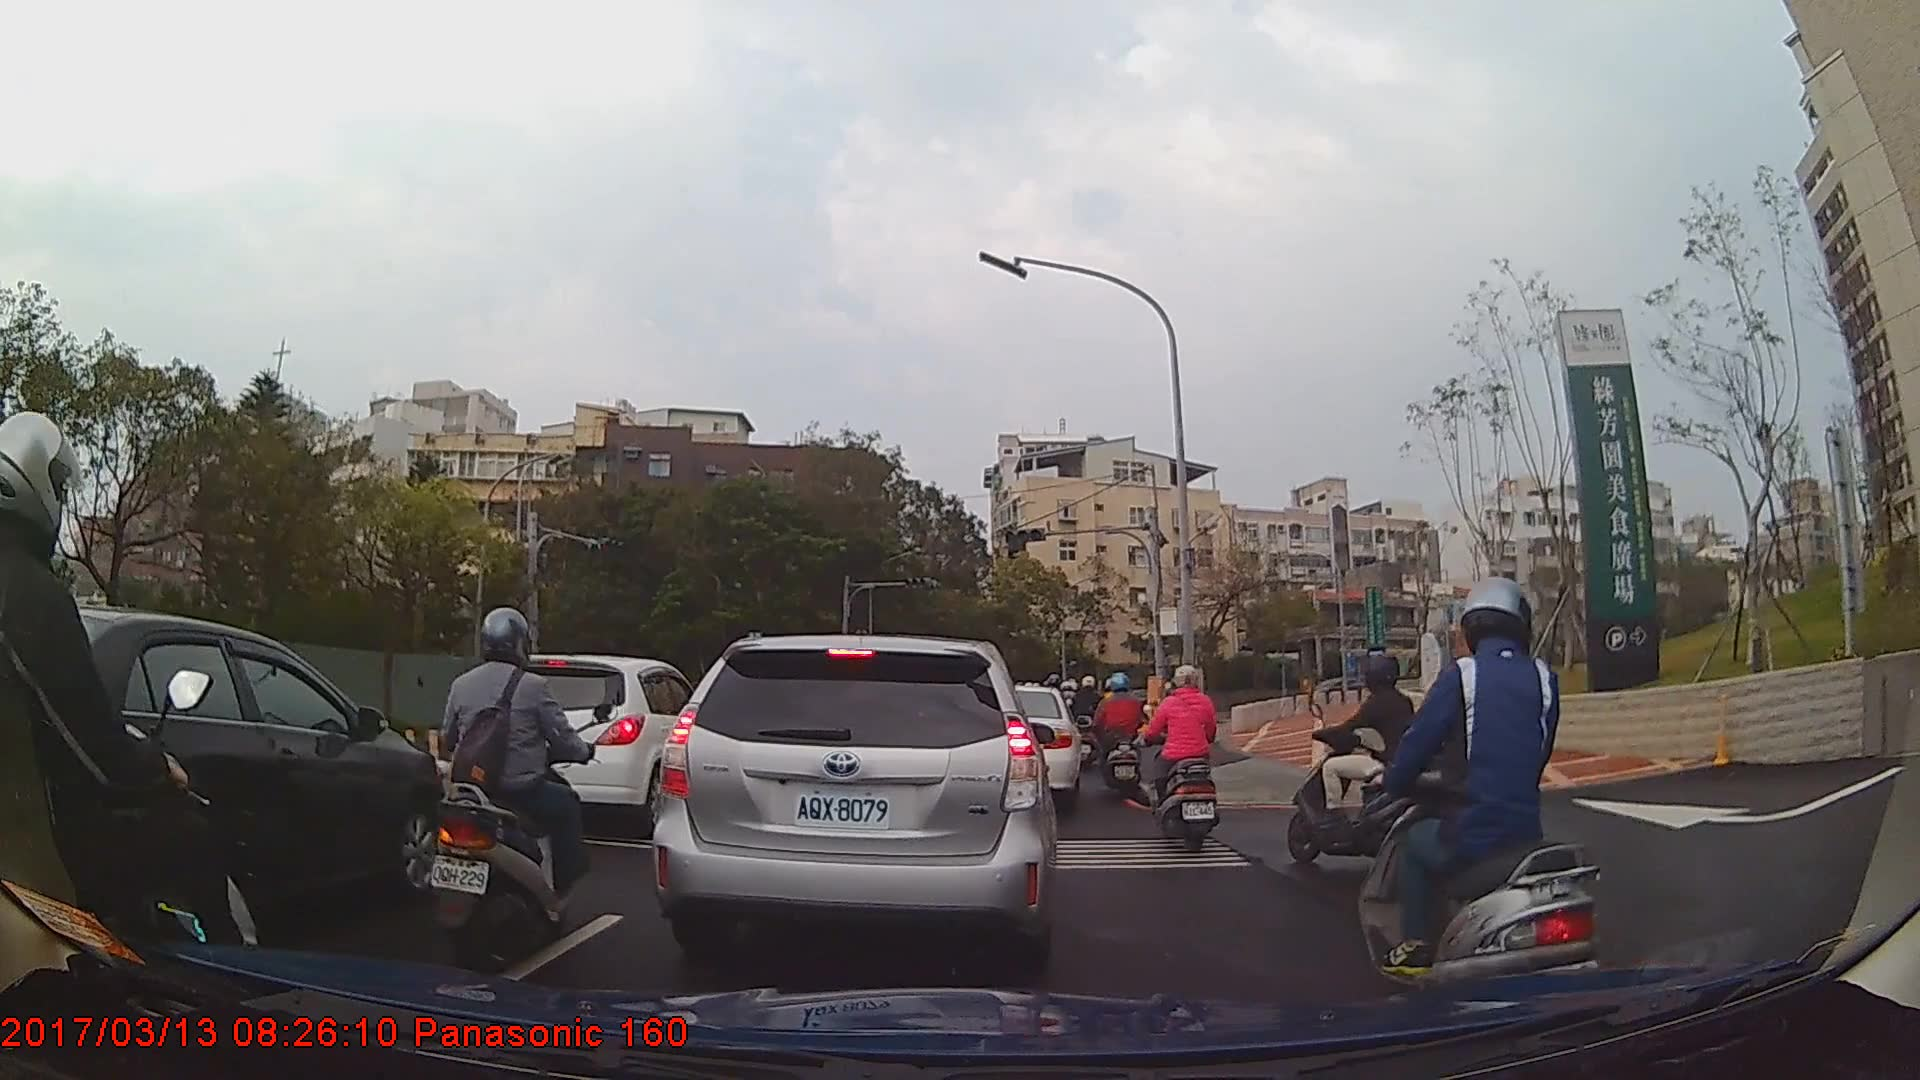rider: (1, 411, 270, 1080), (1357, 579, 1610, 1037), (424, 607, 601, 963), (1288, 655, 1475, 869), (1150, 662, 1220, 857), (1091, 668, 1149, 800), (1073, 673, 1108, 772)
vehicle: (2, 603, 455, 937), (648, 632, 1057, 987), (461, 653, 719, 837), (969, 685, 1082, 808)
